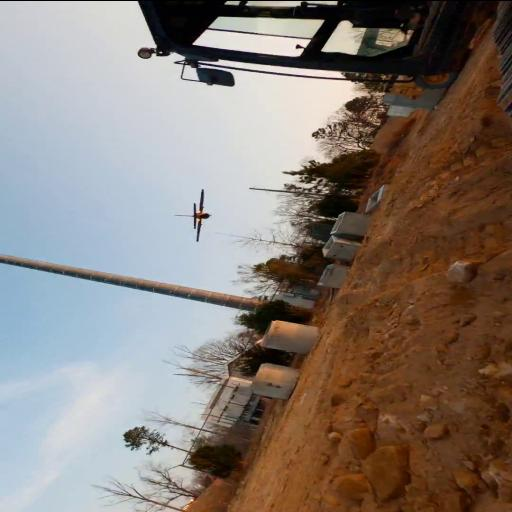uav: (167, 182, 223, 246)
